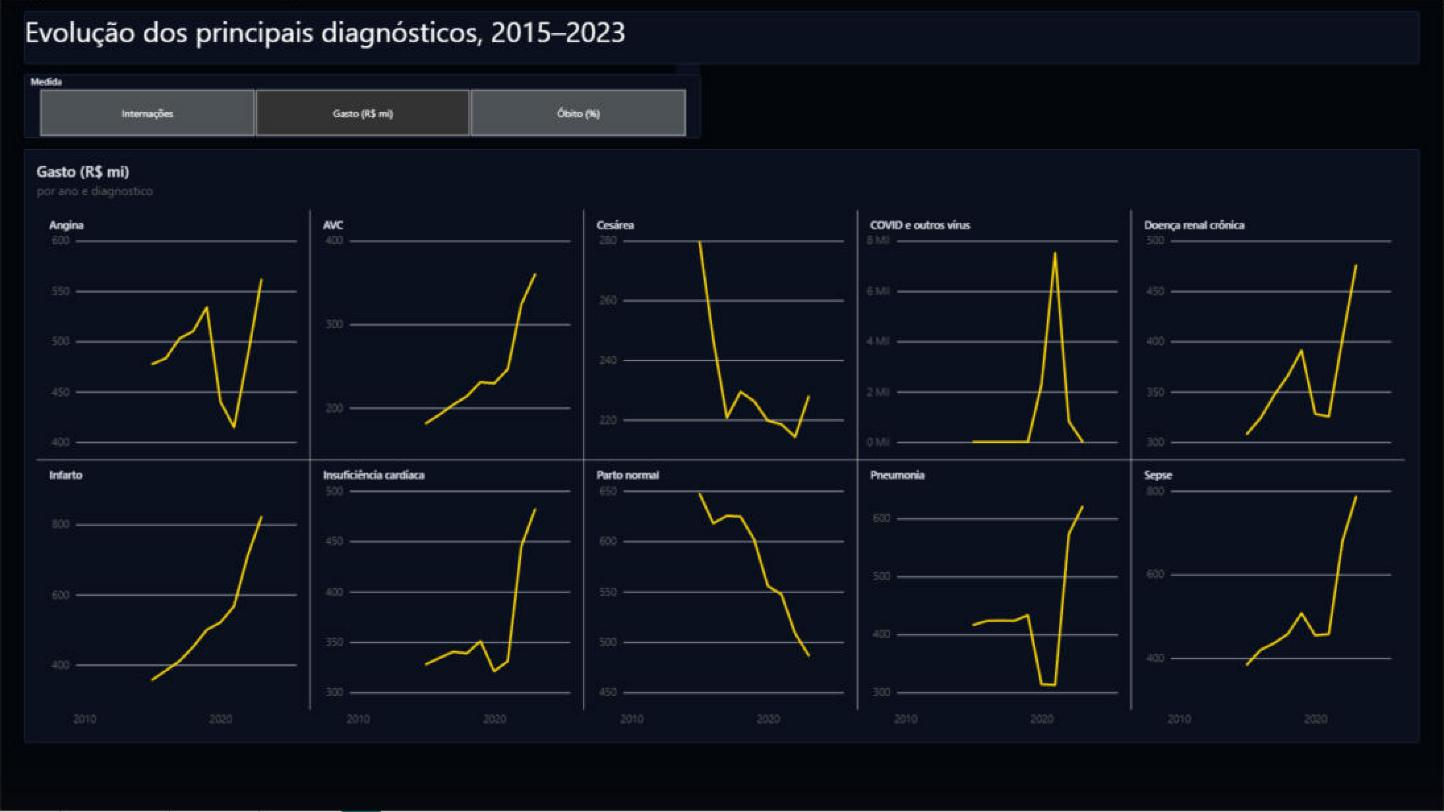

What the dashboard file says about the page in this screenshot:
{"tool":"powerbi","page":{"name":"Evolução","canvas":[1920,1080],"ordinal":2},"visuals":[{"type":"slicer","fields":{"Values":["Medida.Medida"]},"box":[32,100,900,85],"z":0},{"type":"lineChart","fields":{"Category":["evolucao_diagnosticos.ano"],"Rows":["evolucao_diagnosticos.diagnostico"],"Y":["visao_anual.Internações (evolução)"]},"box":[32,200,1856,790],"z":1},{"type":"textbox","box":[32,16,1856,70],"z":2}]}

Visuals, with their boxes in screenshot pixels (x1, y1, x2, y2), scaled from the page's 1920x1080 canvas onto the 1444x812 screenshot:
slicer - Medida.Medida: [x1=24, y1=75, x2=701, y2=139]
lineChart - evolucao_diagnosticos.ano x evolucao_diagnosticos.diagnostico: [x1=24, y1=150, x2=1420, y2=744]
textbox: [x1=24, y1=12, x2=1420, y2=65]
